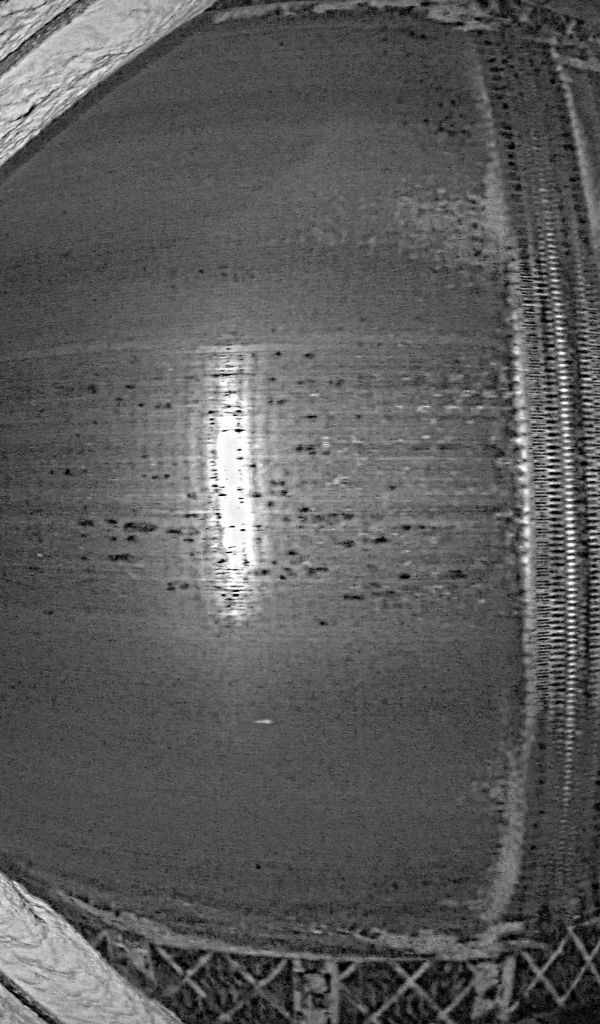splice: (472, 35, 600, 941)
